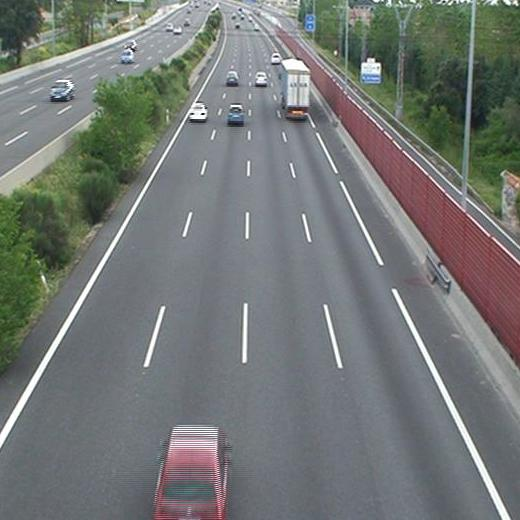car: (155, 428, 225, 520), (188, 103, 207, 119), (227, 106, 243, 124), (226, 71, 238, 85), (254, 72, 266, 85), (271, 53, 280, 64)
truck: (282, 59, 309, 118)
